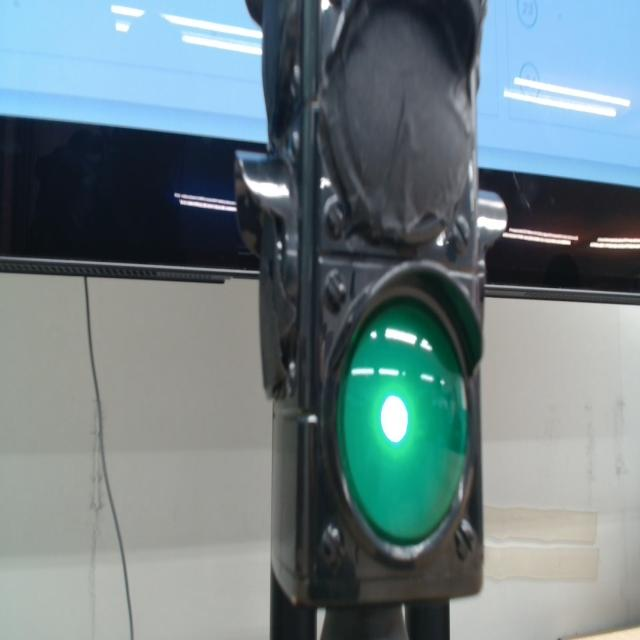green_light: (338, 299, 467, 544), (381, 396, 407, 443)
